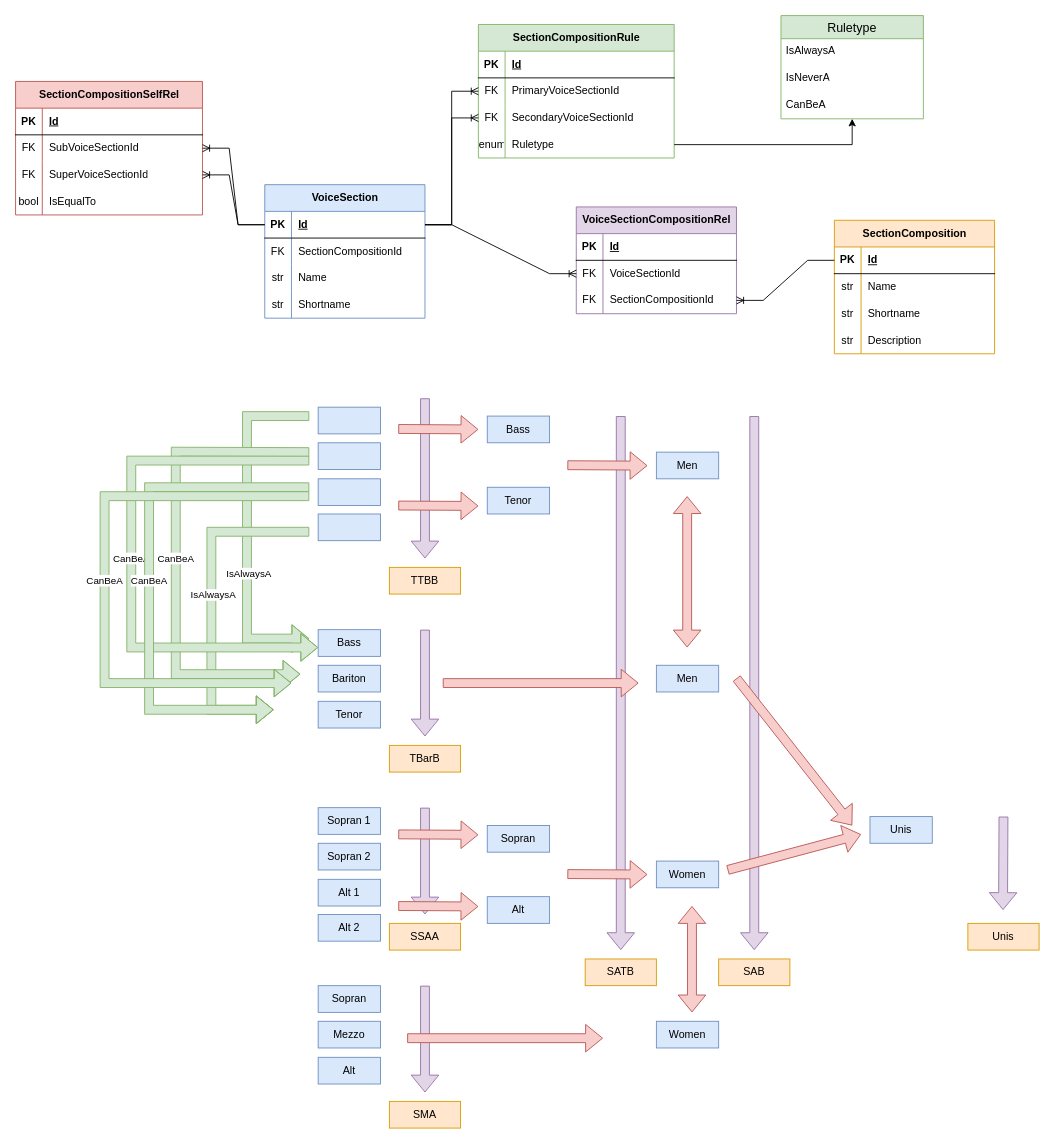
This 1055x1144 diagram has some shape labels left out. The shapes that lost their labels are listed below. From the top down, each one's centre as x and y in pixels, then its label:
At [348,420]: "Bass 2".
At [348,455]: "Bass 1".
At [348,492]: "Tenor 2".
At [348,527]: "Tenor 1".
